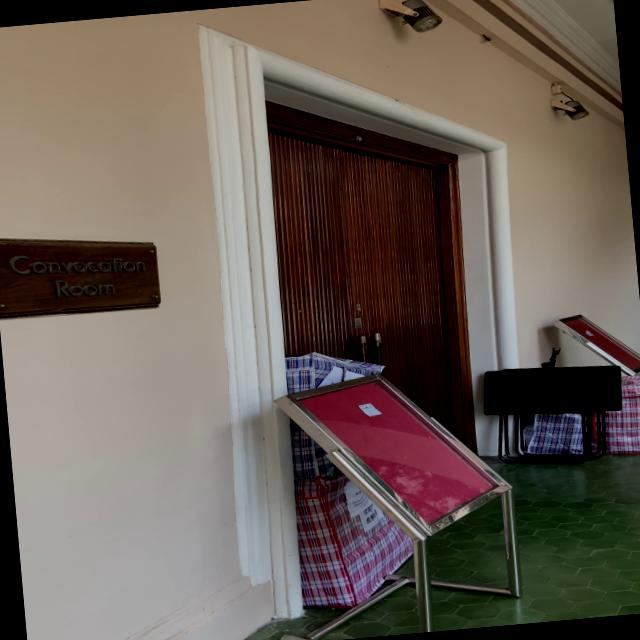room218: (351, 132, 364, 144)
